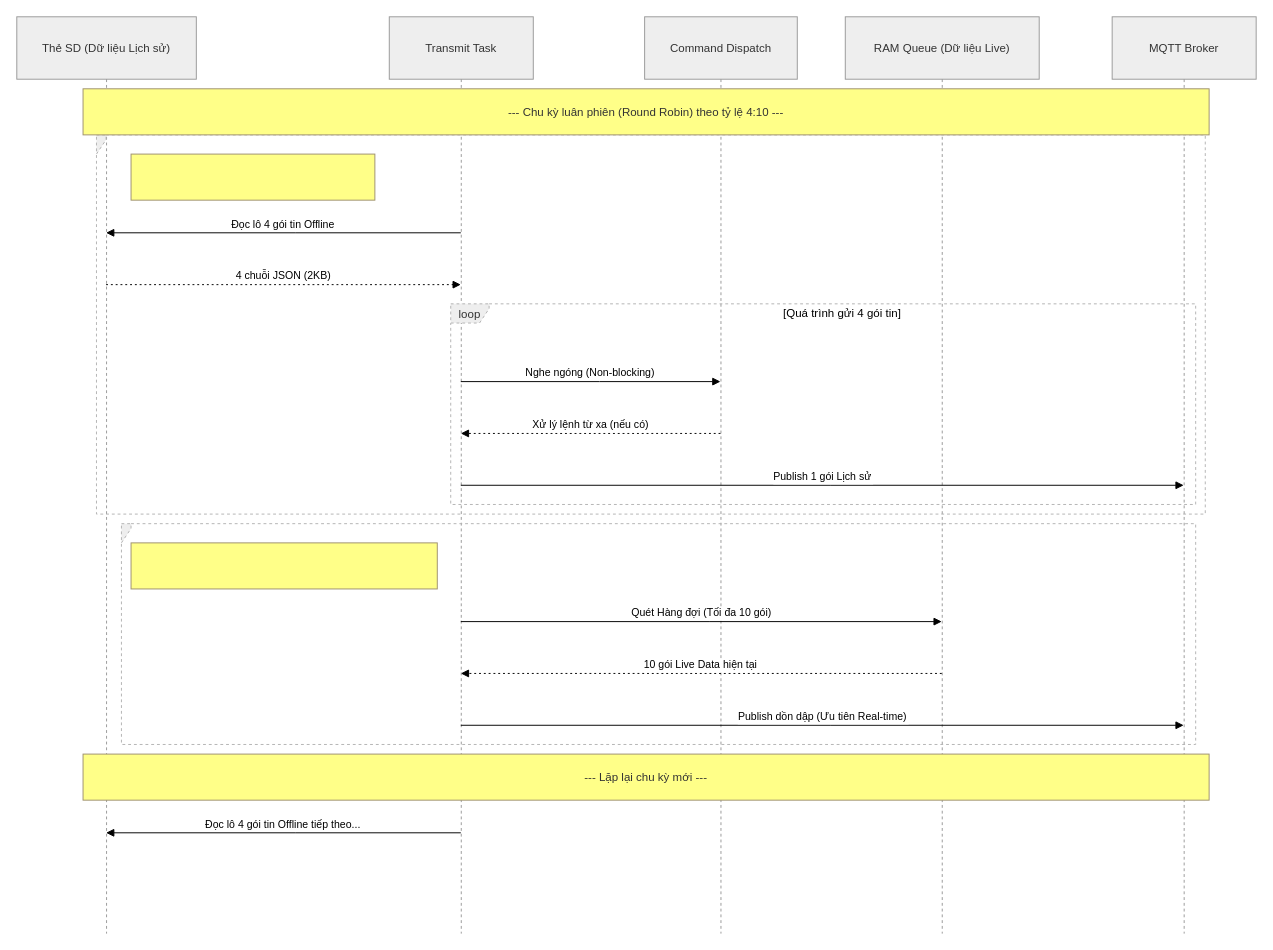
Some shapes in this 1273 by 950 pixel diagram are drawn without their labels. The shapes that lost their labels are listed below. From the top down, each one's centre as x and y in pixels, then its label:
At pixel 252 176: "Giai đoạn 1: Xả chậm (Slow-path)".
At pixel 283 565: "Giai đoạn 2: Xả siêu tốc (Fast-path ưu tiên)".
